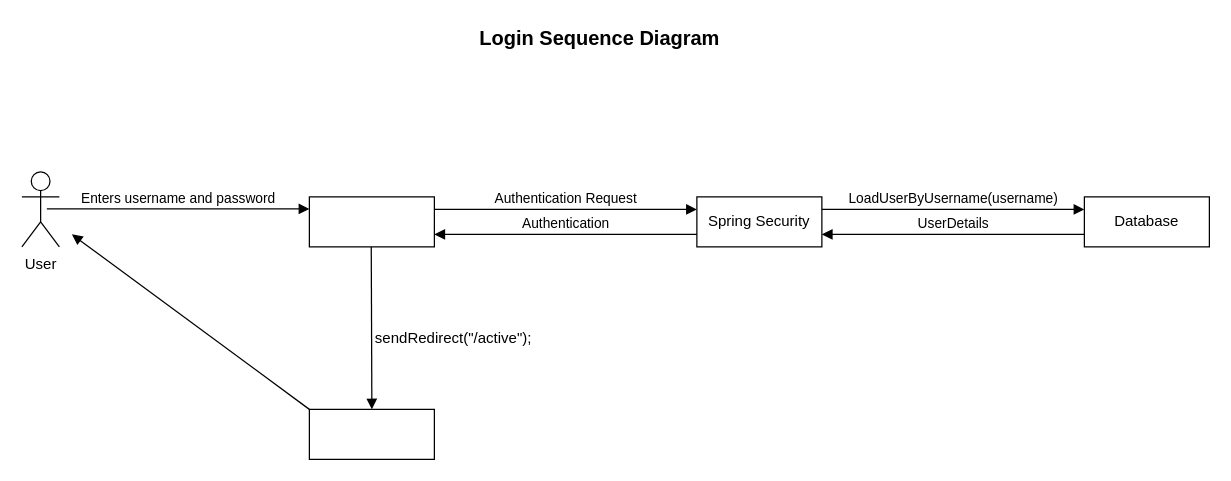
Some shapes in this 1231 by 481 pixel diagram are drawn without their labels. The centre of each missing label's shape, as x and y in pixels:
"ActiveView (default)" belongs at pixel 371 433.
"LoginView" belongs at pixel 371 221.
